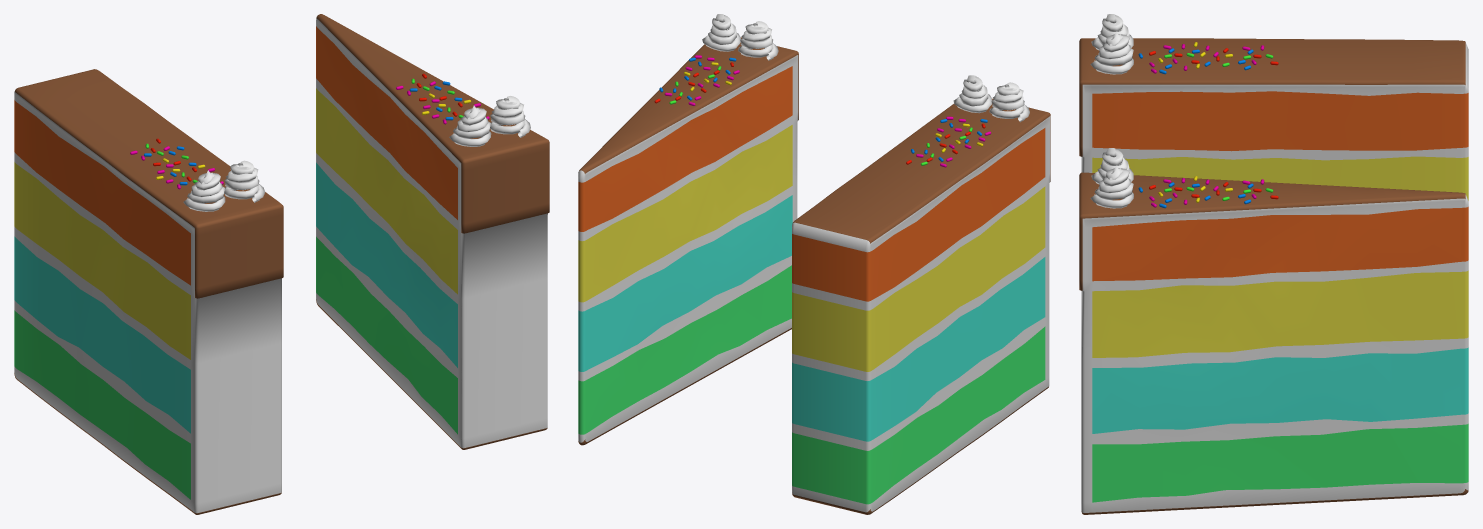
The model's file is P_Wall.fbx.
3 renders of one model, left to right at view 1: azimuth 30°, elevation 25°; view 2: azimuth 150°, elevation 25°; view 3: azimuth 270°, elevation 25°, orthographic. The views are drawn at different scales.
Parts seen in each view (by area): view 1: P_Wall, P_Wall_Straight; view 2: P_Wall, P_Wall_Straight; view 3: P_Wall_Straight, P_Wall.
Part boxes in pixels (<box>): P_Wall: <box>14,69,283,514</box>; P_Wall_Straight: <box>316,14,549,449</box>; P_Wall: <box>792,75,1050,514</box>; P_Wall_Straight: <box>578,14,798,445</box>; P_Wall_Straight: <box>1079,148,1468,514</box>; P_Wall: <box>1079,14,1468,200</box>.
Size of the model in its own units: 2758 by 2439 by 2544.
